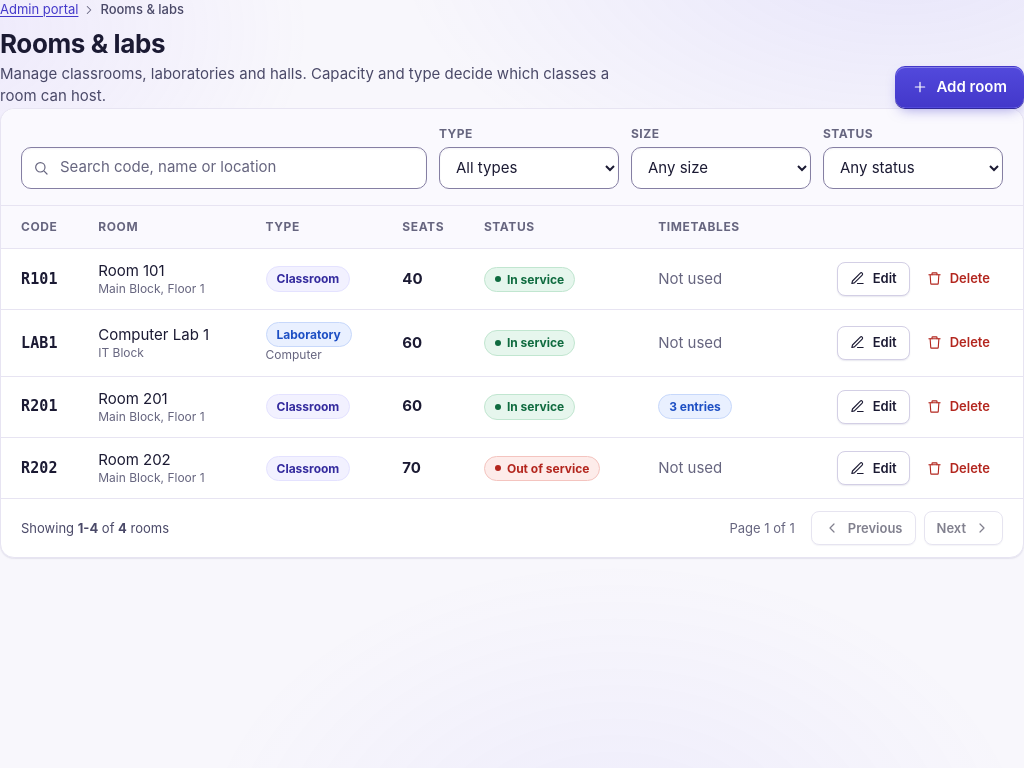
it: Rooms screen - edit (PRA-TC03) › shows the server message when it refuses a change
Click the button with aria-label "Edit R101 Room 101" at coordinates (873, 279), box [837, 262, 910, 296]
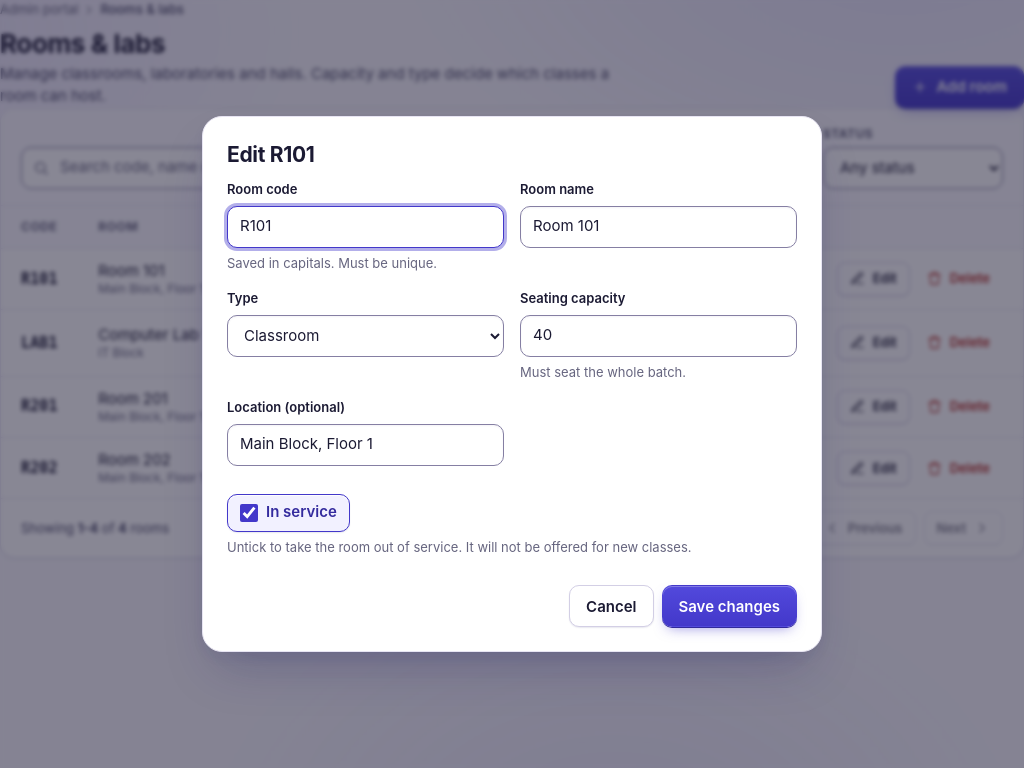
Click the button "Save changes" at coordinates (729, 606), box [662, 585, 797, 627]
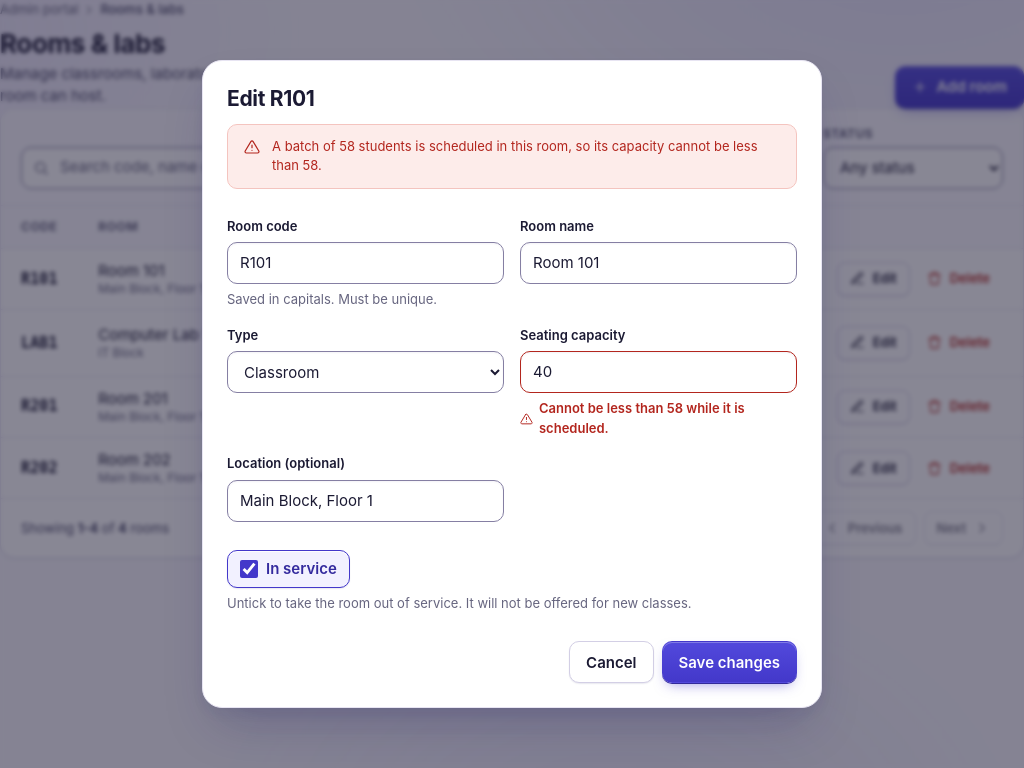
Now the text "Cannot be less than 58 while it is scheduled." is shown, box [520, 400, 745, 436]
